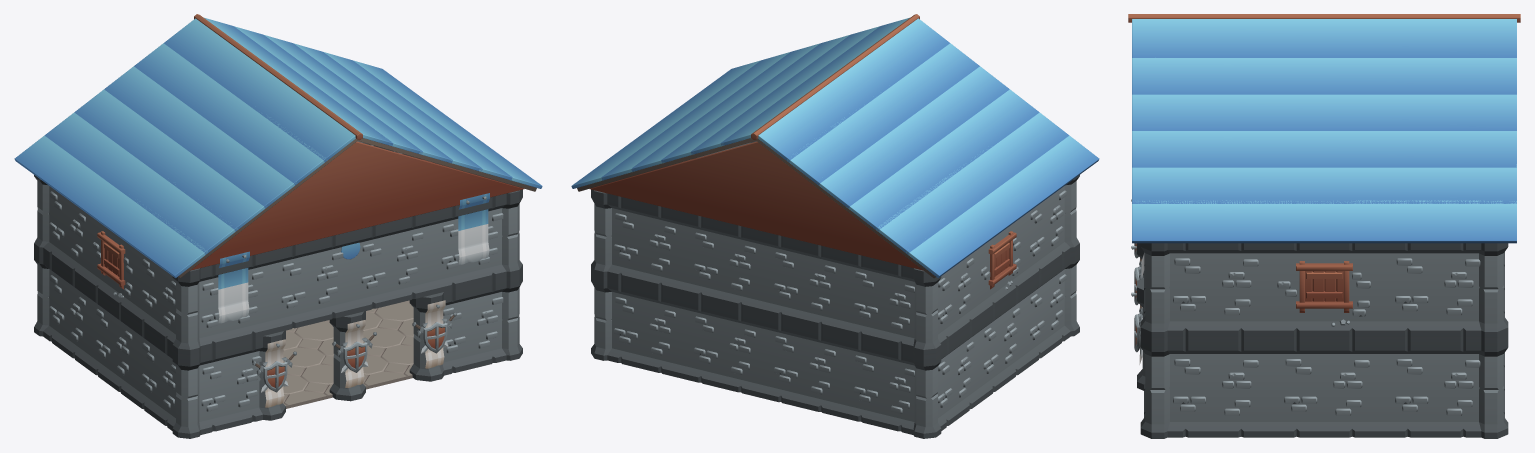
The model's file is bank_galehold.glb.
3 views of the same model, side by side, from view 1: azimuth 30°, elevation 25°; view 2: azimuth 150°, elevation 25°; view 3: azimuth 270°, elevation 25° (orthographic). The views are drawn at different scales.
Parts seen in each view (by area): view 1: bank_galehold; view 2: bank_galehold; view 3: bank_galehold.
Boxes of the visible parts, x1,y1,x2,y2 form: bank_galehold: [14, 14, 542, 438]; bank_galehold: [571, 14, 1099, 438]; bank_galehold: [1128, 14, 1520, 438].
Bounding box in the file's own units: 13.81 × 9.91 × 10.6.
Materials: 4 (4 with a texture image).
